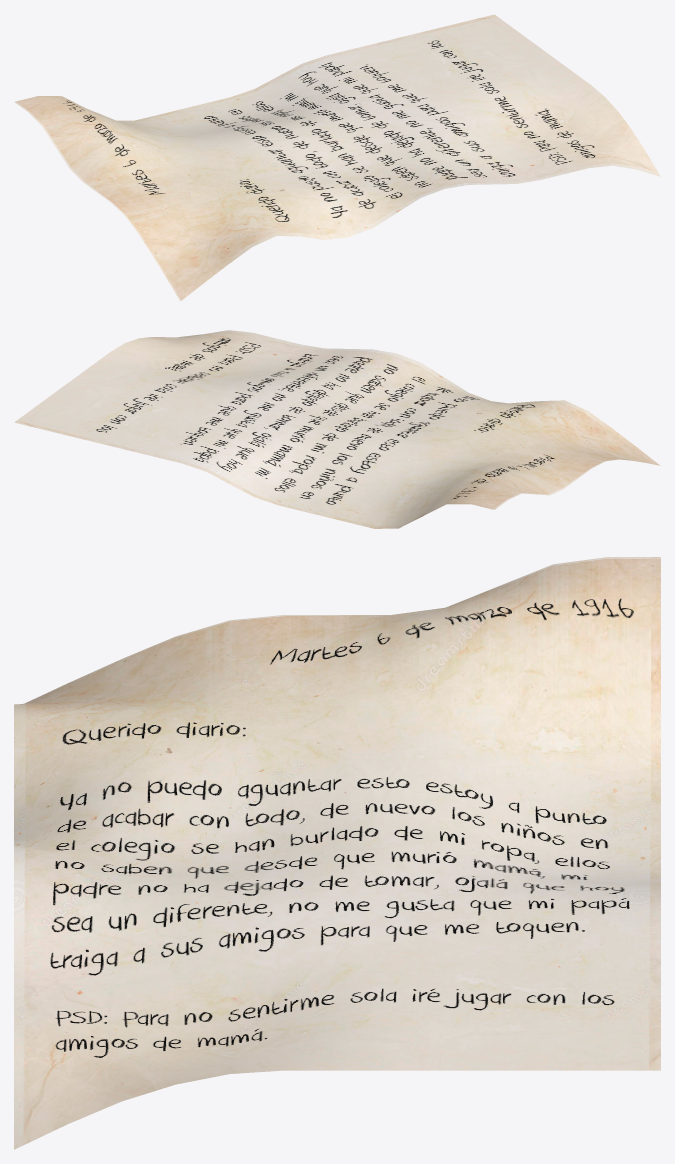
File: nota1.fbx
3 renders of one model, top to bottom at view 1: azimuth 30°, elevation 25°; view 2: azimuth 150°, elevation 25°; view 3: azimuth 270°, elevation 25°, orthographic. The views are drawn at different scales.
Parts seen in each view (by area): view 1: pPlane1; view 2: pPlane1; view 3: pPlane1.
Boxes of the visible parts, left/top/right/bottom form: pPlane1: left=14, top=14, right=660, bottom=301; pPlane1: left=14, top=330, right=660, bottom=528; pPlane1: left=14, top=557, right=660, bottom=1149.
Bounding box in the file's own units: 121 × 18.69 × 72.44.
1 material, 1 textured.
